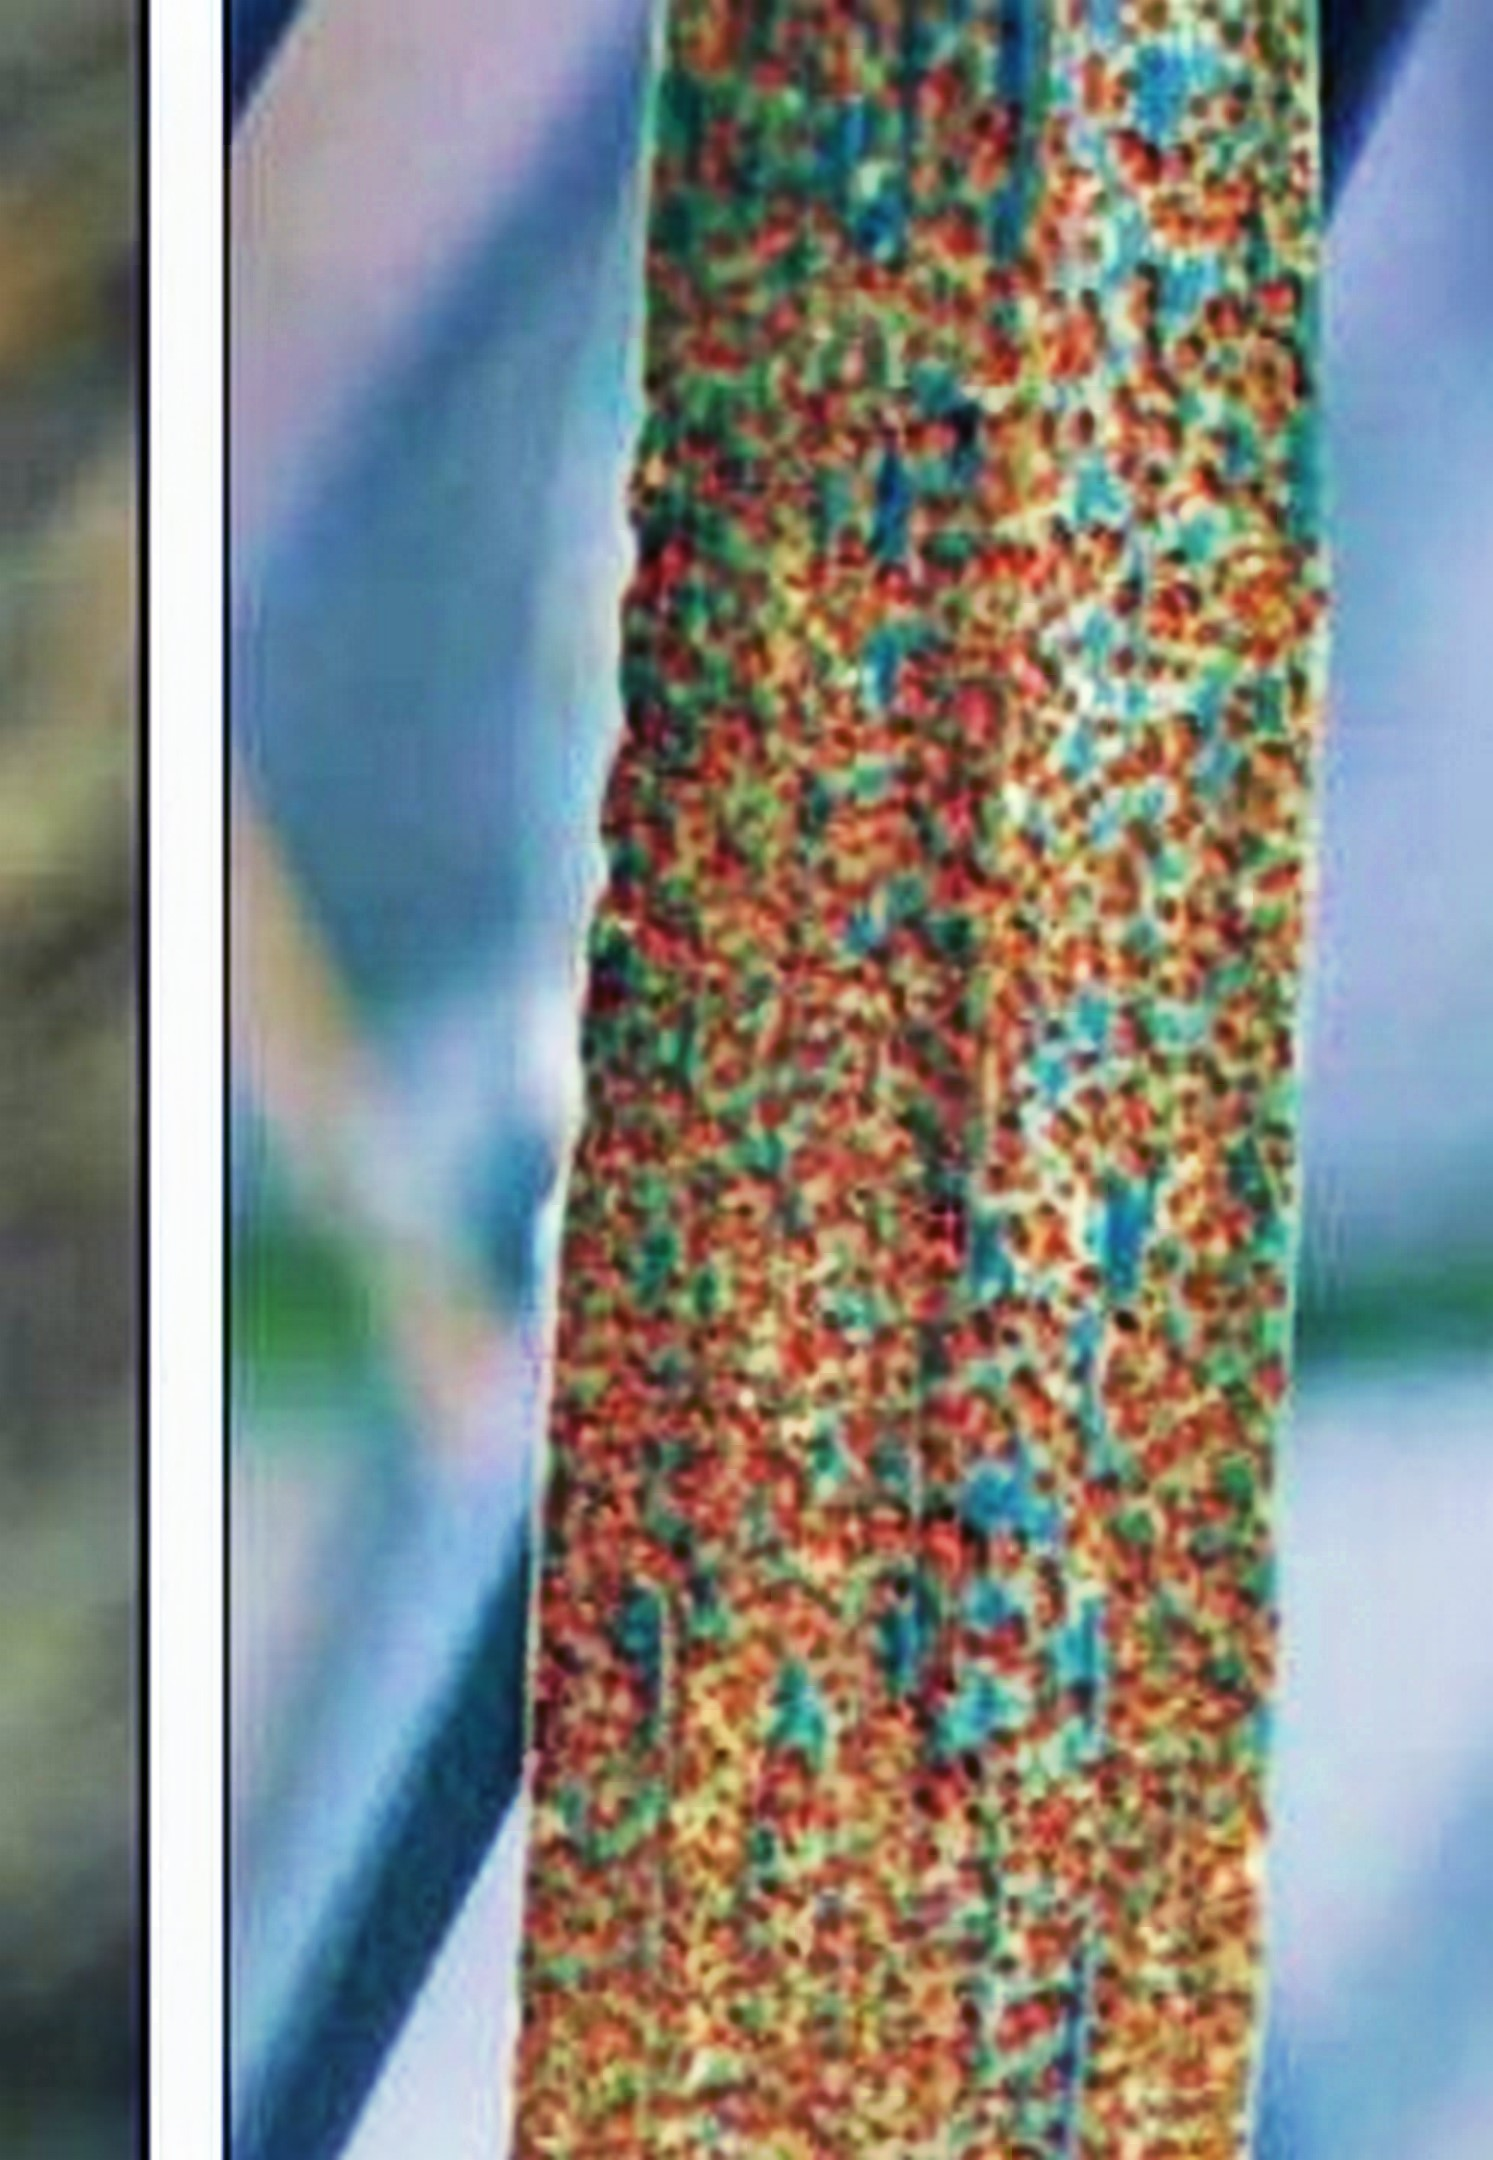Leaf Rust: (528, 77, 1335, 2145)
